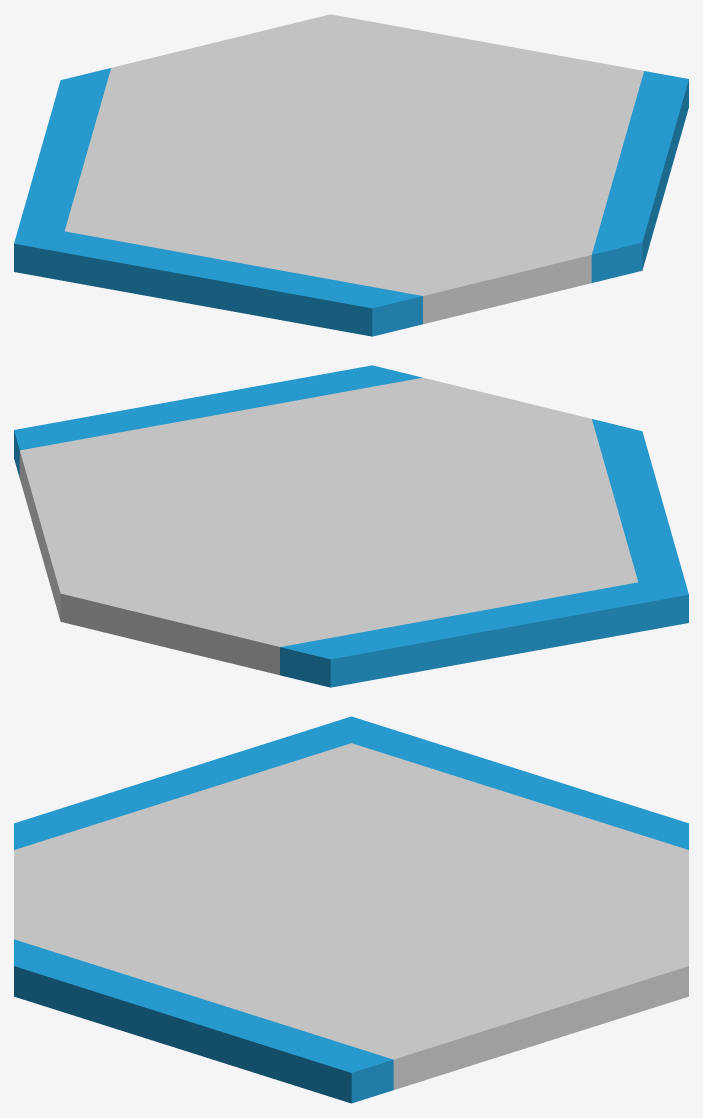
3 views of the same model, one above another, from view 1: azimuth 30°, elevation 25°; view 2: azimuth 150°, elevation 25°; view 3: azimuth 270°, elevation 25° (orthographic). The views are drawn at different scales.
Parts seen in each view (by area): view 1: Hexagon.001, SW.001, SE, NW.001; view 2: Hexagon.001, NW.001, SE, SW.001; view 3: Hexagon.001, SE, SW.001, NW.001.
Part boxes in pixels (x1,y1,x2,y2): Hexagon.001: (65,14,643,324); SW.001: (14,231,422,336); SE: (591,71,688,282); NW.001: (14,68,110,243); Hexagon.001: (19,377,637,675); NW.001: (280,582,688,687); SE: (14,365,421,477); SW.001: (592,419,688,594); Hexagon.001: (14,743,688,1089); SE: (14,939,393,1103); SW.001: (14,716,351,849); NW.001: (351,716,688,849).
Size of the model in its own units: 5 by 4 by 0.2.
